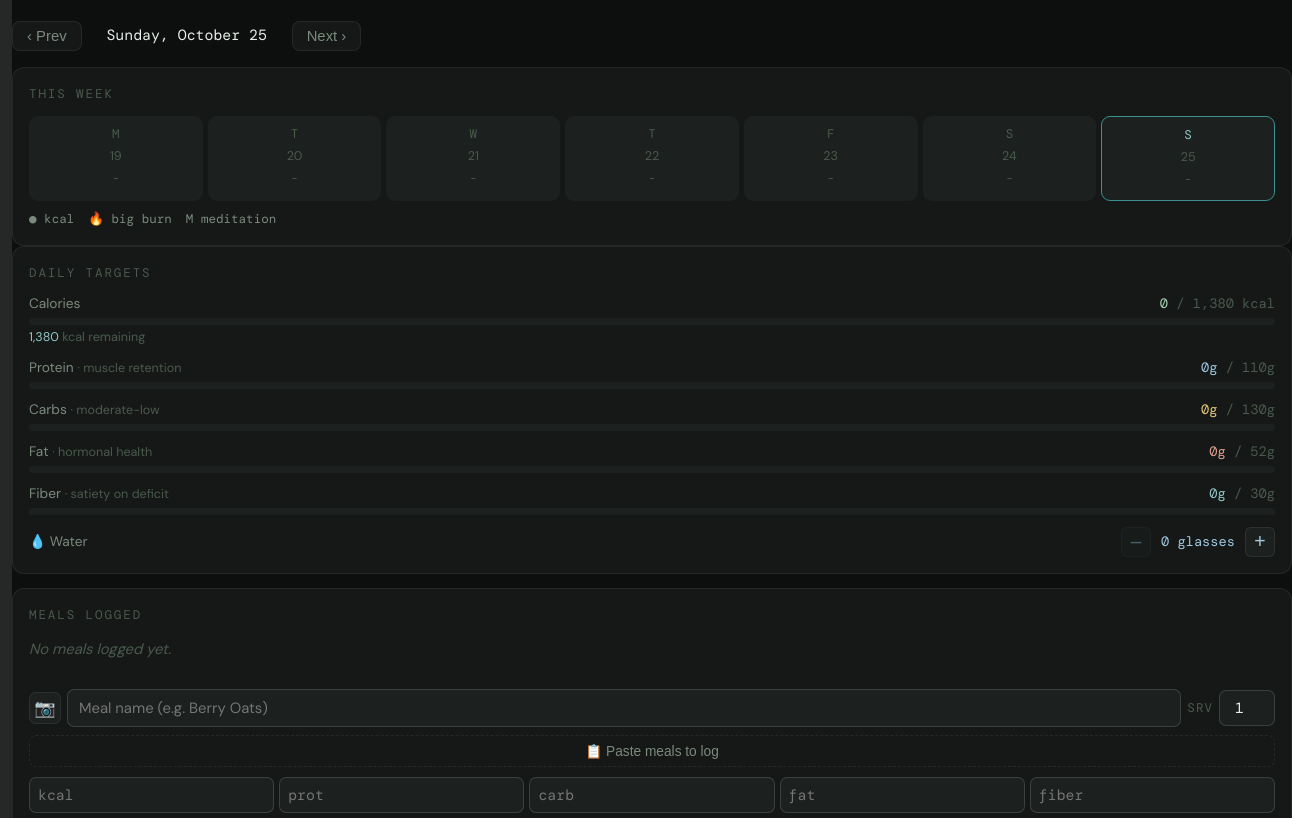
TrackerTab — food form edit/remove/quick-add › edits a multi-serving food back to its per-serving macros
In the field with placeholder "Meal name (e.g. Berry Oats)": (624, 708) 67,689 -> 1181,727, type "Big Bowl"
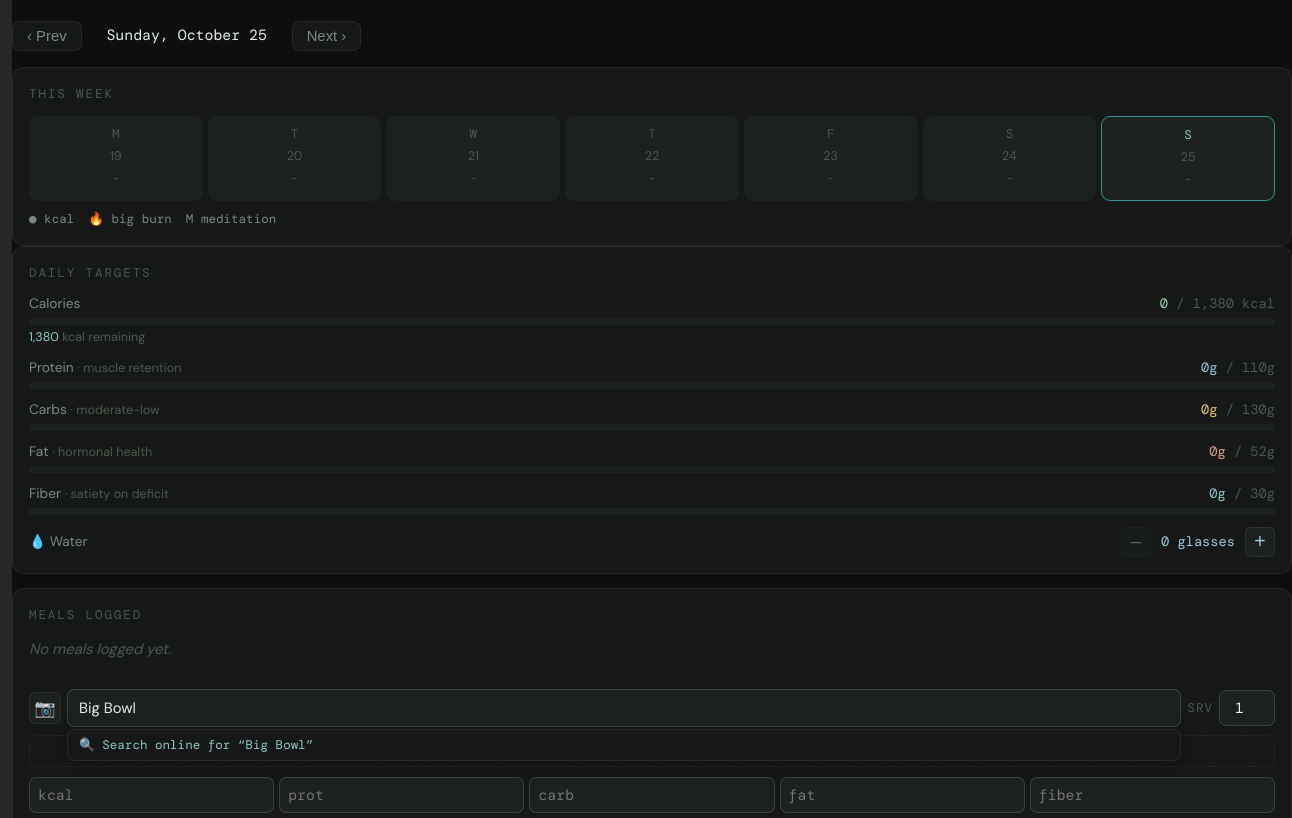
In the number field with placeholder "kcal": (152, 795) 29,777 -> 274,813, type "100"
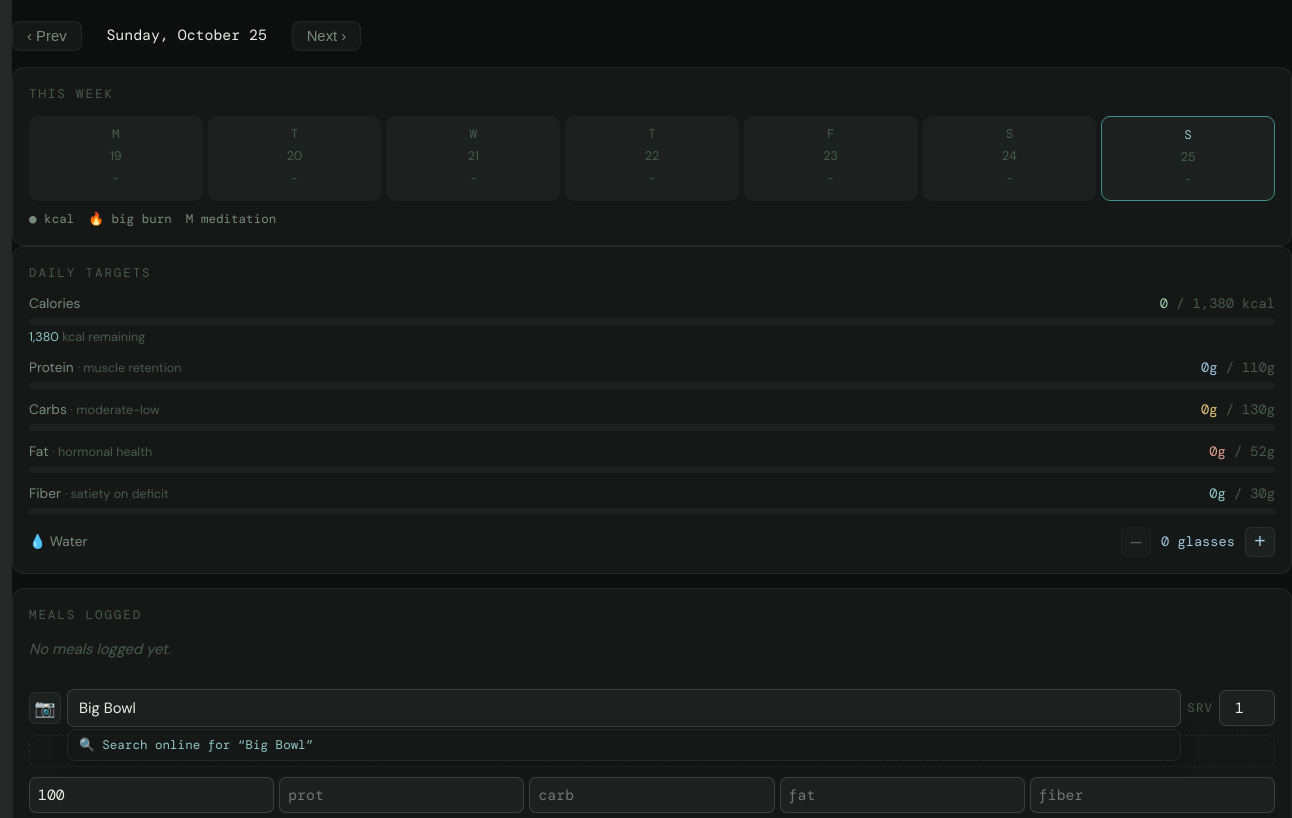
In the number field next to "SRV": (1247, 708) 1219,690 -> 1275,726, type "2"
(page scrolled)
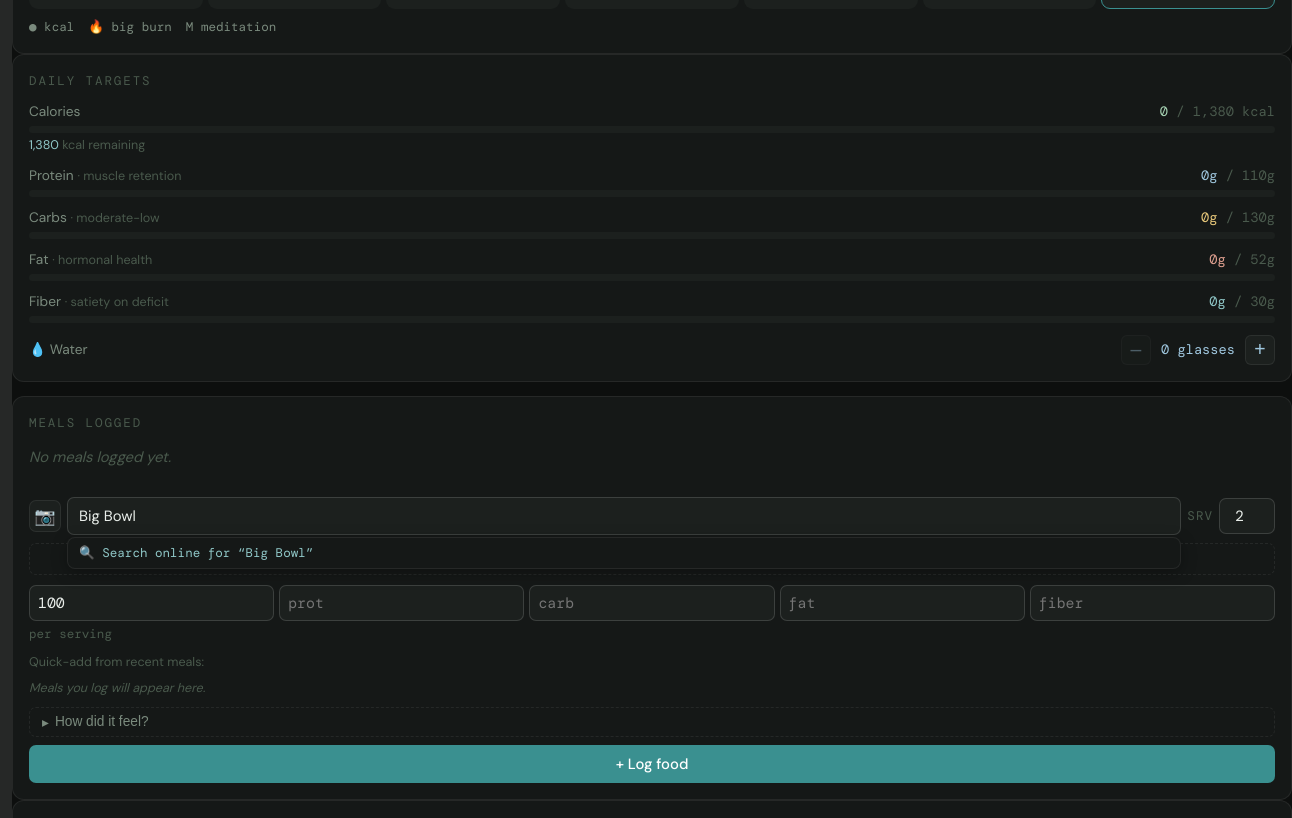
Click the button "+ Log food": (652, 764) 29,745 -> 1275,783
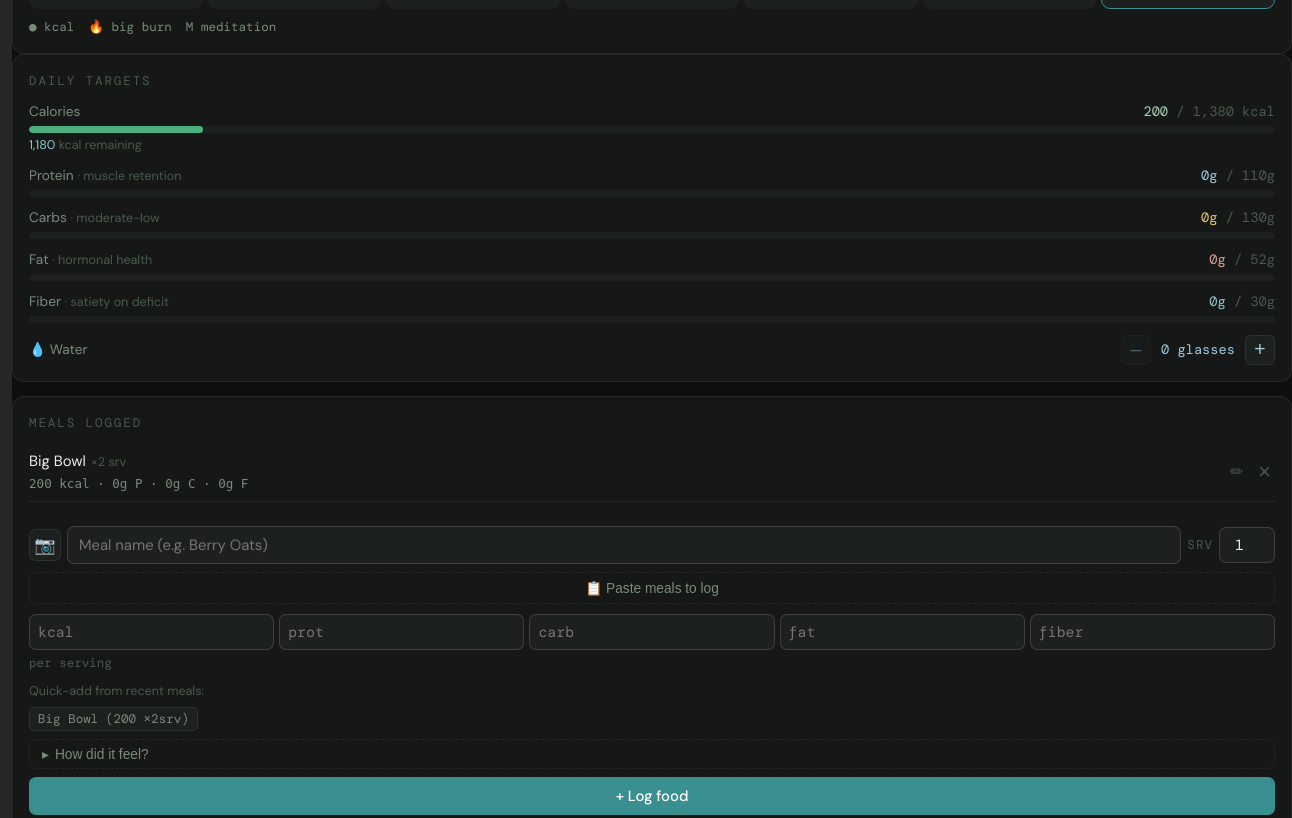
Expected: the text "200 kcal · 0g P · 0g C · 0g F" is shown, 29,476 -> 248,491
Click the button with class "food-edit-btn": (1237, 472) 1227,464 -> 1246,480
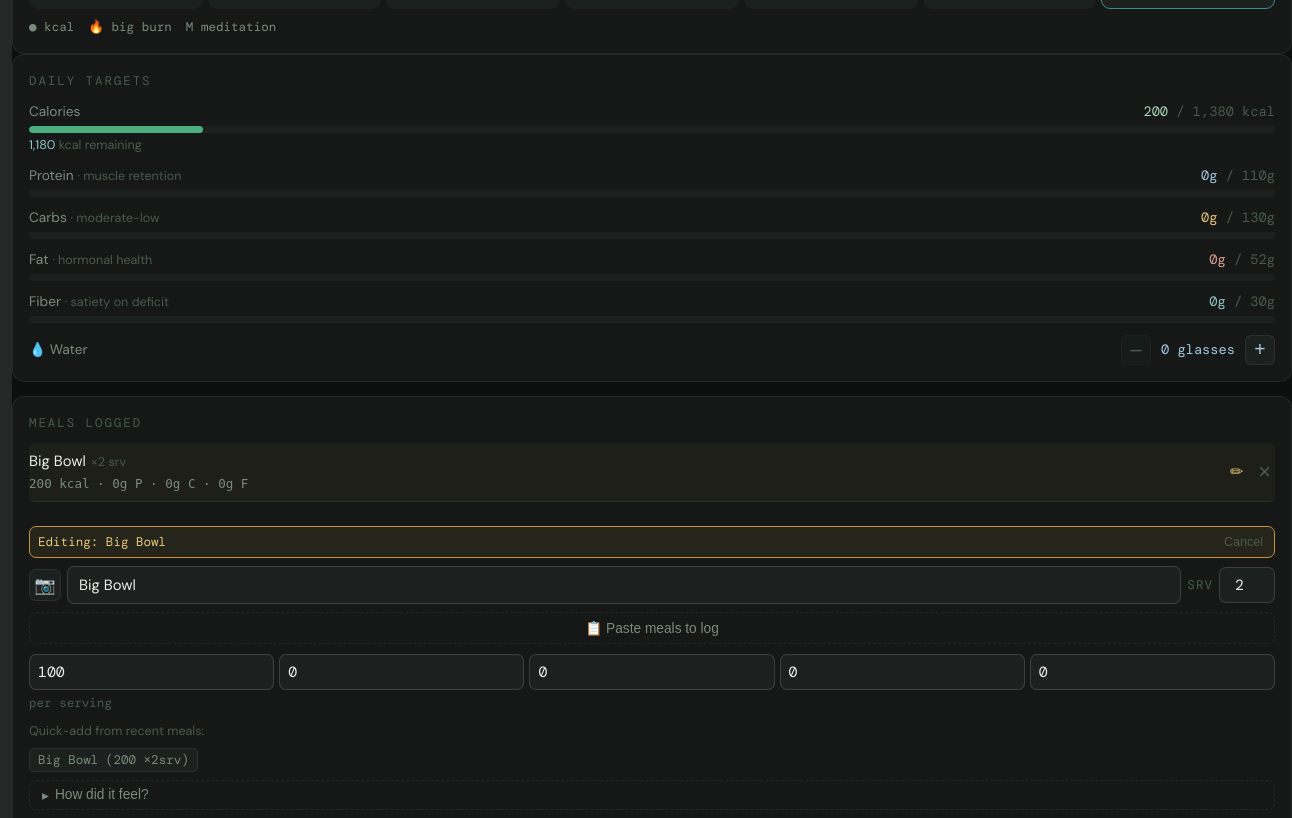
Expected: the text "Editing: Big Bowl" is shown, 38,532 -> 166,552
Click the button "Cancel": (1243, 542) 1221,536 -> 1266,548
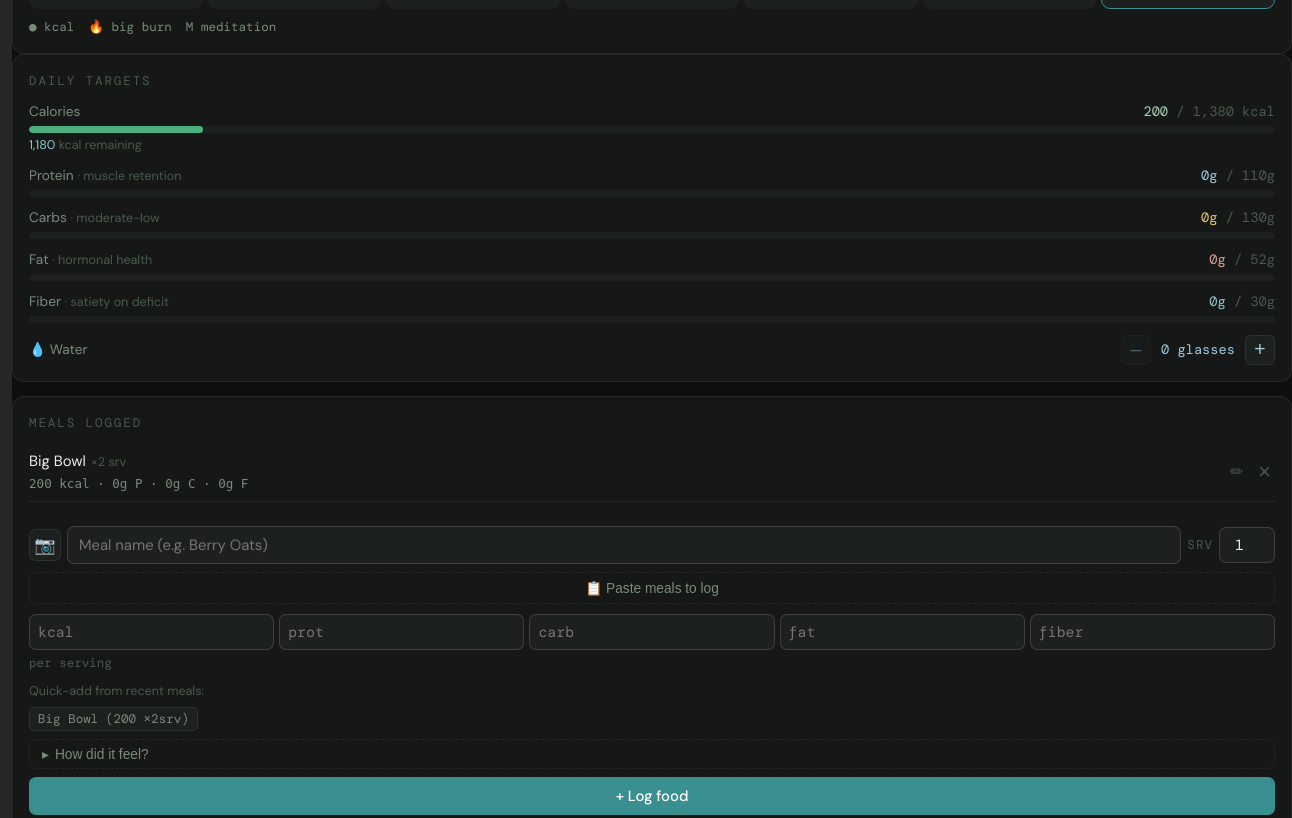
Expected: the number field with placeholder "kcal" is empty, 29,614 -> 274,650
